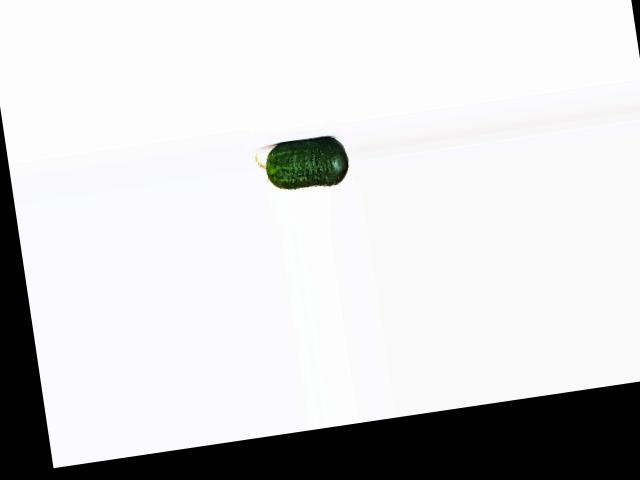cucumber: (253, 133, 350, 196)
